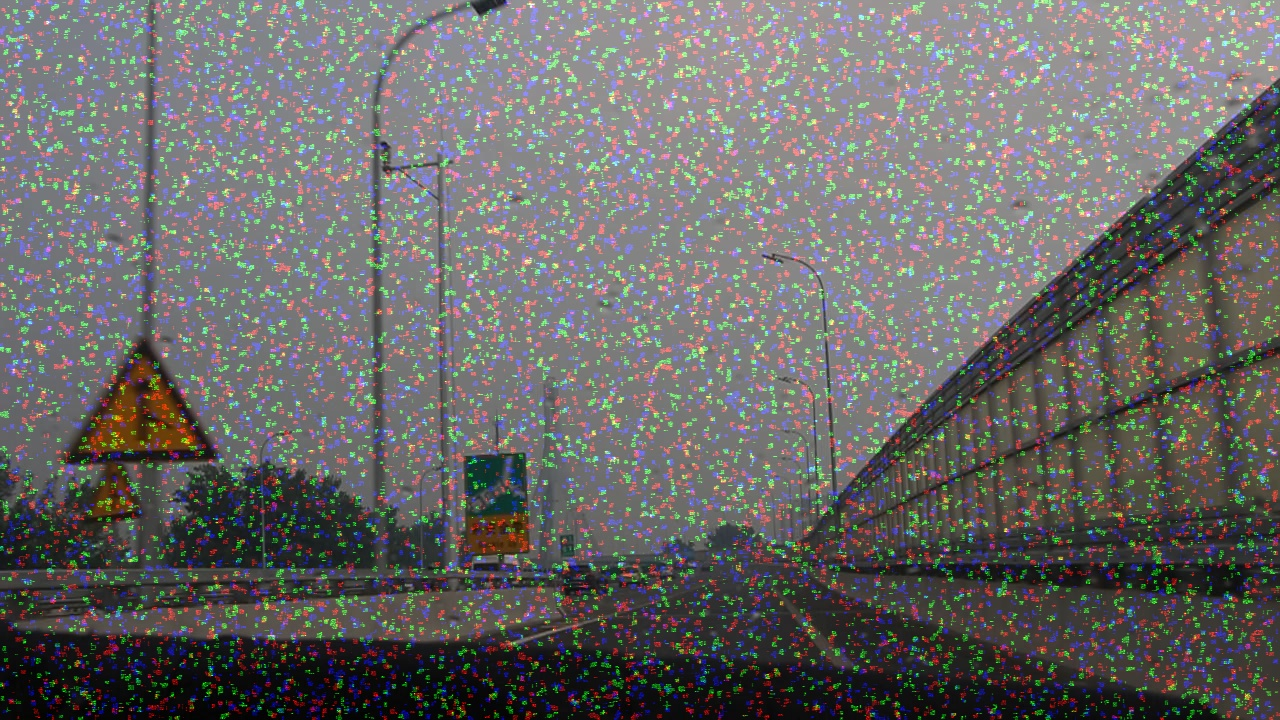Warning Signs: (60, 337, 224, 468), (81, 460, 145, 524)
